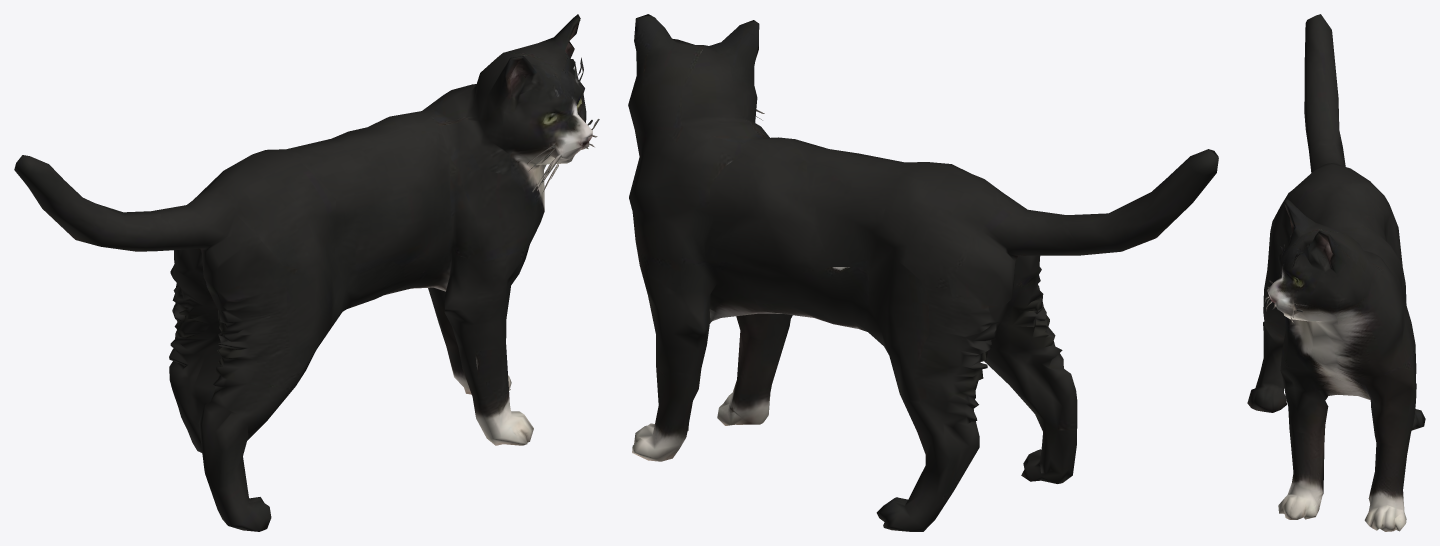
File: UNSINKSAM-lo.glb
3 renders of one model, left to right at view 1: azimuth 30°, elevation 25°; view 2: azimuth 150°, elevation 25°; view 3: azimuth 270°, elevation 25°, orthographic. The views are drawn at different scales.
Visible parts, largest first — view 1: tripo_node_25c0ba85-0a4f-4d97-94f7-7d4d0dc537d8; view 2: tripo_node_25c0ba85-0a4f-4d97-94f7-7d4d0dc537d8; view 3: tripo_node_25c0ba85-0a4f-4d97-94f7-7d4d0dc537d8.
Boxes of the visible parts, left/top/right/bottom form: tripo_node_25c0ba85-0a4f-4d97-94f7-7d4d0dc537d8: left=14, top=14, right=599, bottom=531; tripo_node_25c0ba85-0a4f-4d97-94f7-7d4d0dc537d8: left=628, top=14, right=1218, bottom=531; tripo_node_25c0ba85-0a4f-4d97-94f7-7d4d0dc537d8: left=1247, top=14, right=1425, bottom=531.
Size of the model in its own units: 1.51 by 0.9937 by 0.5047.
Materials: 1 (1 with a texture image).
